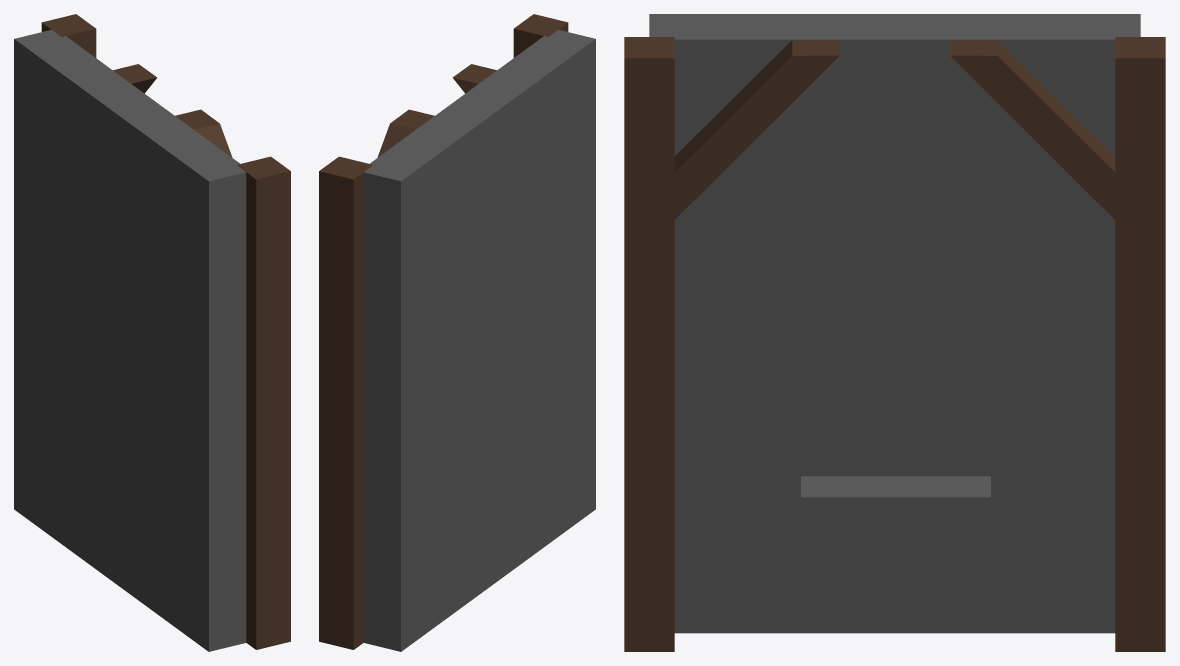
Rendered from wall altar straight with support.fbx.
3 views of the same model, side by side, from view 1: azimuth 30°, elevation 25°; view 2: azimuth 150°, elevation 25°; view 3: azimuth 270°, elevation 25° (orthographic). The views are drawn at different scales.
Parts seen in each view (by area): view 1: default wall 4Hx3L.001, Cube.006, Cube.004, Cube.007, Cube.005; view 2: default wall 4Hx3L.001, Cube.004, Cube.006, Cube.005, Cube.007; view 3: default wall 4Hx3L.001, Cube.004, Cube.006, Cube.005, Cube.007.
Boxes of the visible parts, x1,y1,x2,y2 form: default wall 4Hx3L.001: (14, 30, 246, 651); Cube.006: (237, 156, 290, 649); Cube.004: (41, 14, 96, 57); Cube.007: (175, 109, 232, 157); Cube.005: (113, 64, 157, 93); default wall 4Hx3L.001: (363, 30, 595, 651); Cube.004: (319, 156, 372, 649); Cube.006: (513, 14, 568, 57); Cube.005: (377, 109, 434, 157); Cube.007: (452, 64, 496, 93); default wall 4Hx3L.001: (649, 14, 1140, 633); Cube.004: (1115, 37, 1165, 651); Cube.006: (624, 37, 674, 651); Cube.005: (950, 39, 1115, 219); Cube.007: (674, 39, 839, 219).
Bounding box in the file's own units: 128 × 800 × 661.
